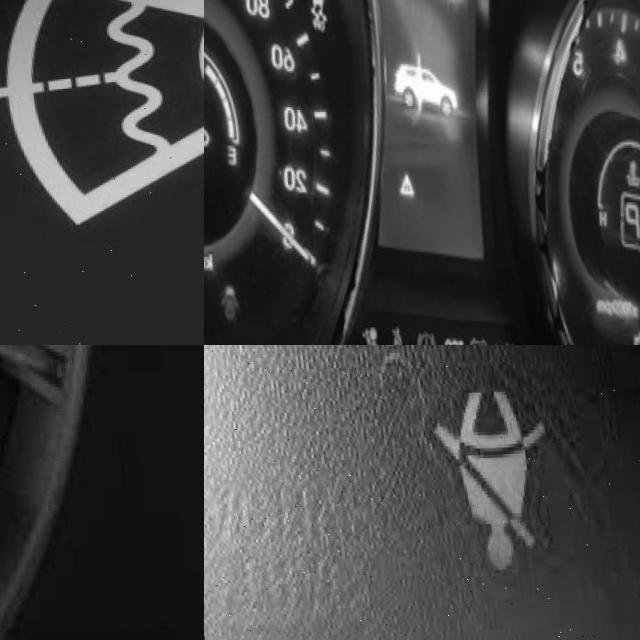Central Warning lamp: (387, 172, 410, 206)
Doors: (204, 279, 234, 330)
Seat Belt: (426, 391, 555, 573)
Washer Fluid: (0, 0, 204, 230)
